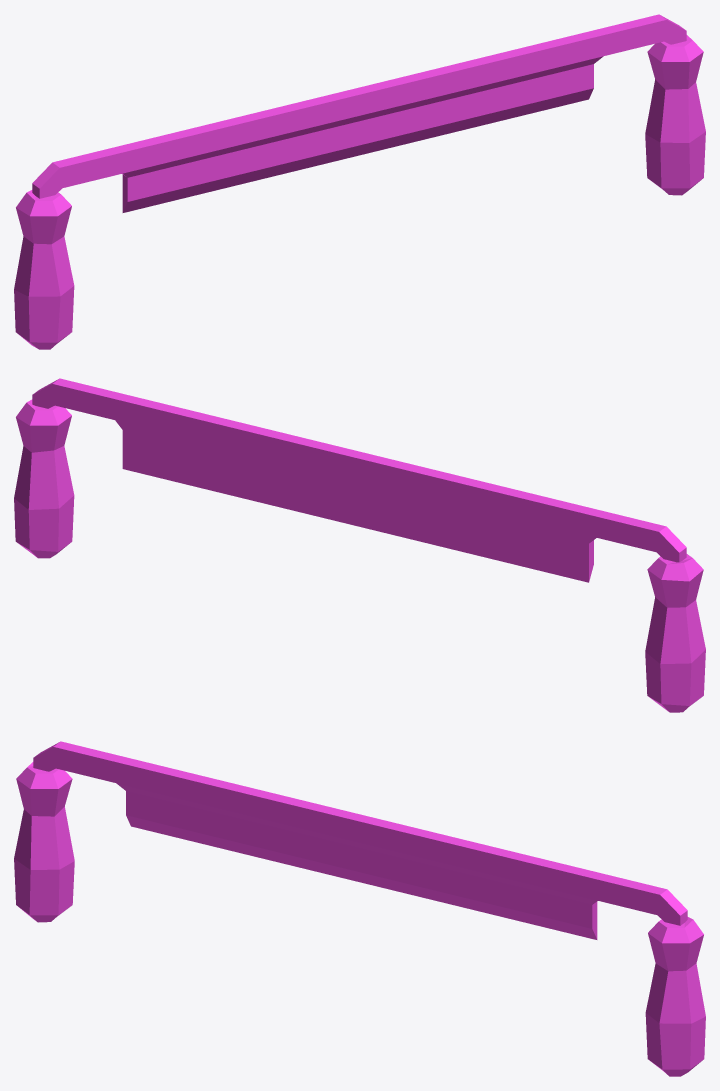
Rendered from SM_Knife_Draw_Fantasy.fbx.
3 renders of one model, top to bottom at view 1: azimuth 30°, elevation 25°; view 2: azimuth 150°, elevation 25°; view 3: azimuth 330°, elevation 25°, orthographic.
Visible parts, largest first — view 1: SM_Knife_Draw_Fantasy; view 2: SM_Knife_Draw_Fantasy; view 3: SM_Knife_Draw_Fantasy.
Boxes of the visible parts, left/top/right/bottom form: SM_Knife_Draw_Fantasy: left=14, top=14, right=705, bottom=349; SM_Knife_Draw_Fantasy: left=14, top=378, right=705, bottom=712; SM_Knife_Draw_Fantasy: left=14, top=741, right=705, bottom=1076.
Bounding box in the file's own units: 0.524 × 0.1305 × 0.0407.
